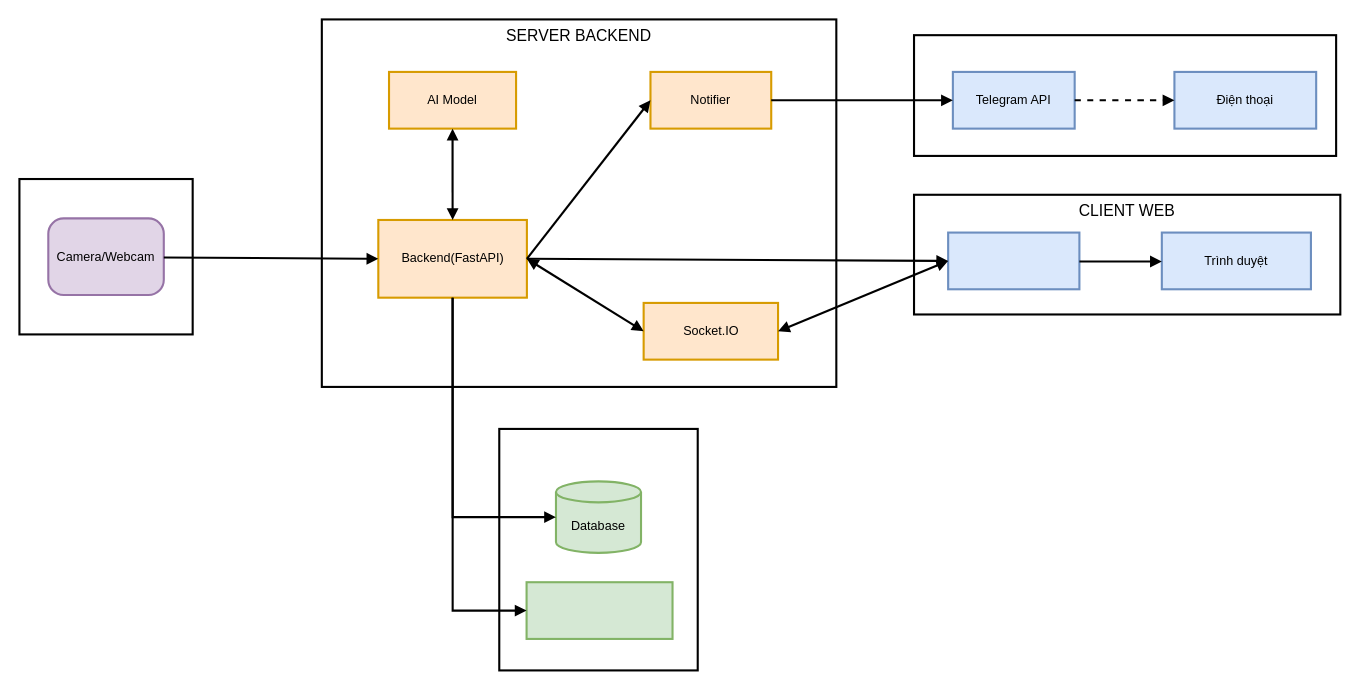
This 1359x689 diagram has some shape labels left out. The box of each missing label's shape, as (x1, y1, x2, y2) in pixels:
CẢNH BÁO: (912, 34, 1337, 156)
Folder Ảnh: (525, 581, 673, 639)
Frontend: (947, 231, 1080, 290)
LƯU TRỮ: (498, 427, 698, 671)
THIẾT BỊ VÀO: (18, 177, 193, 335)
